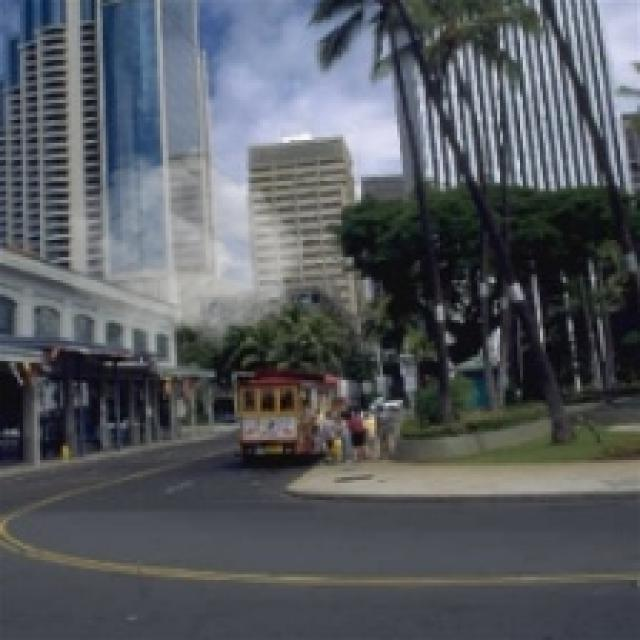Smoke: (68, 146, 303, 352)
